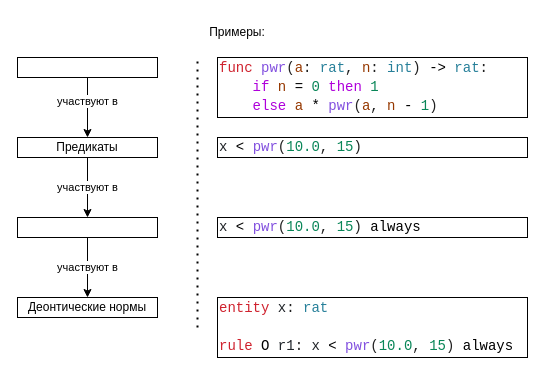
Some shapes in this 545 by 375 pixel diagram are drawn without their labels. Here are the shapes that lost their labels. From the top down, the centre of each, then its label:
point (87, 67): Термы
point (87, 227): Временные выражения
